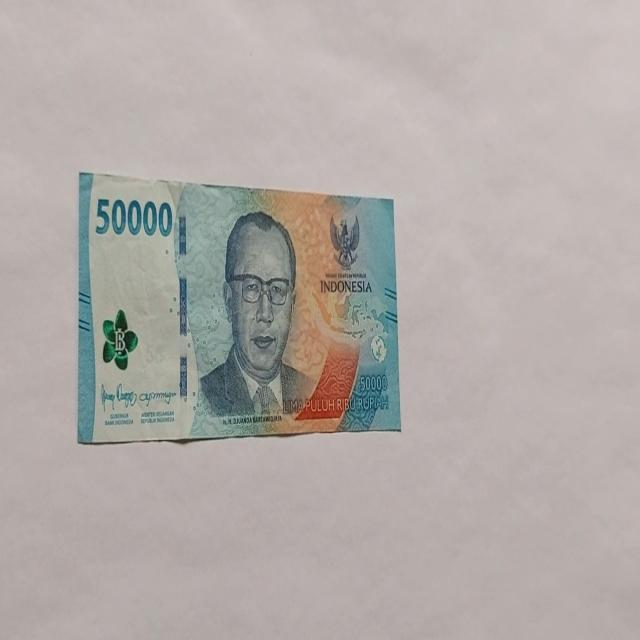lima puluh ribu rupiah: (76, 170, 402, 444), (190, 209, 318, 434)
